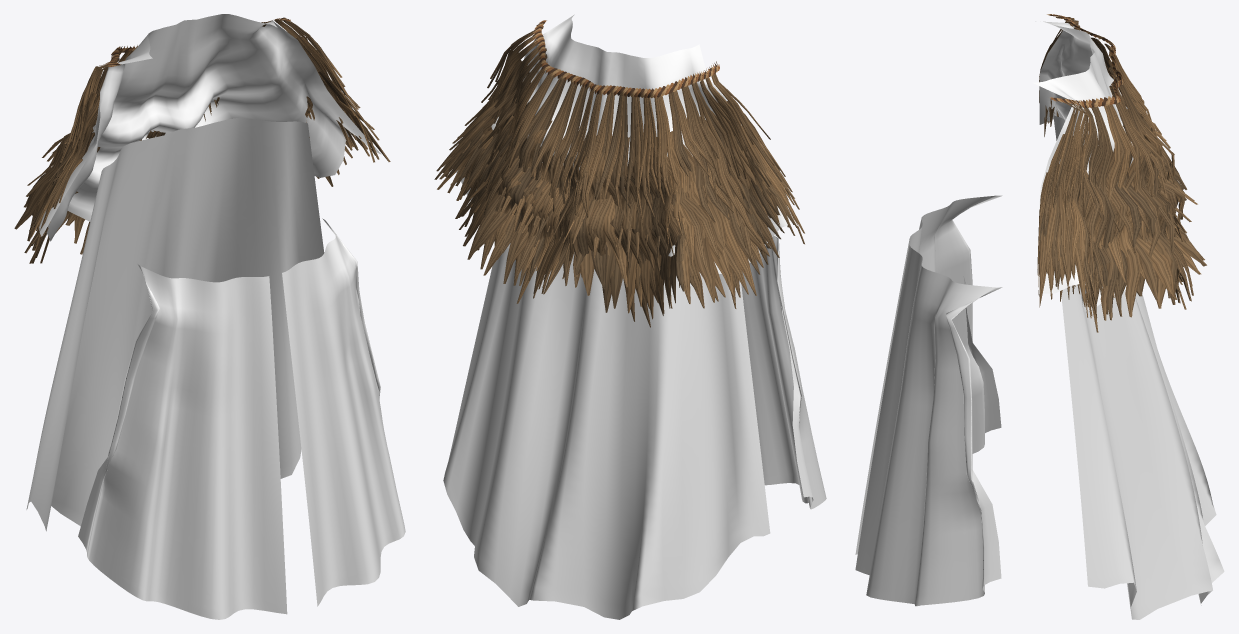
File: PilgrimMantle.glb
The picture shows the model from 3 angles, left to right: view 1: azimuth 30°, elevation 25°; view 2: azimuth 150°, elevation 25°; view 3: azimuth 270°, elevation 25°; orthographic projection. The views are drawn at different scales.
Visible parts, largest first — view 1: PilgrimMantle, Knotted palm rain cape; view 2: PilgrimMantle, Knotted palm rain cape; view 3: PilgrimMantle, Knotted palm rain cape.
Part boxes in pixels (x1,y1,x2,y2): PilgrimMantle: (26, 14, 405, 619); Knotted palm rain cape: (14, 17, 390, 263); PilgrimMantle: (443, 14, 826, 619); Knotted palm rain cape: (434, 20, 804, 327); PilgrimMantle: (855, 21, 1224, 619); Knotted palm rain cape: (1037, 14, 1206, 332).
Bounding box in the file's own units: 0.8851 × 1.26 × 0.7829.
Materials: 2 (1 with a texture image).
